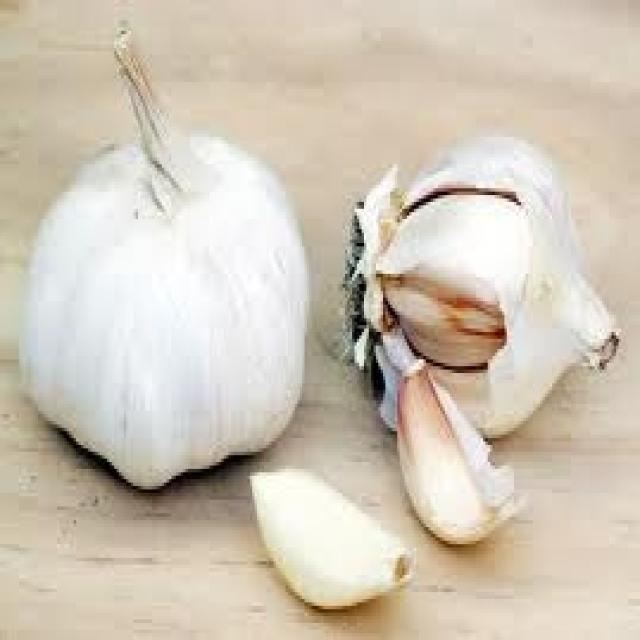garlic: (19, 127, 309, 512)
